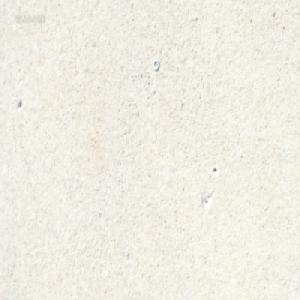Washer: (152, 58, 158, 70)
